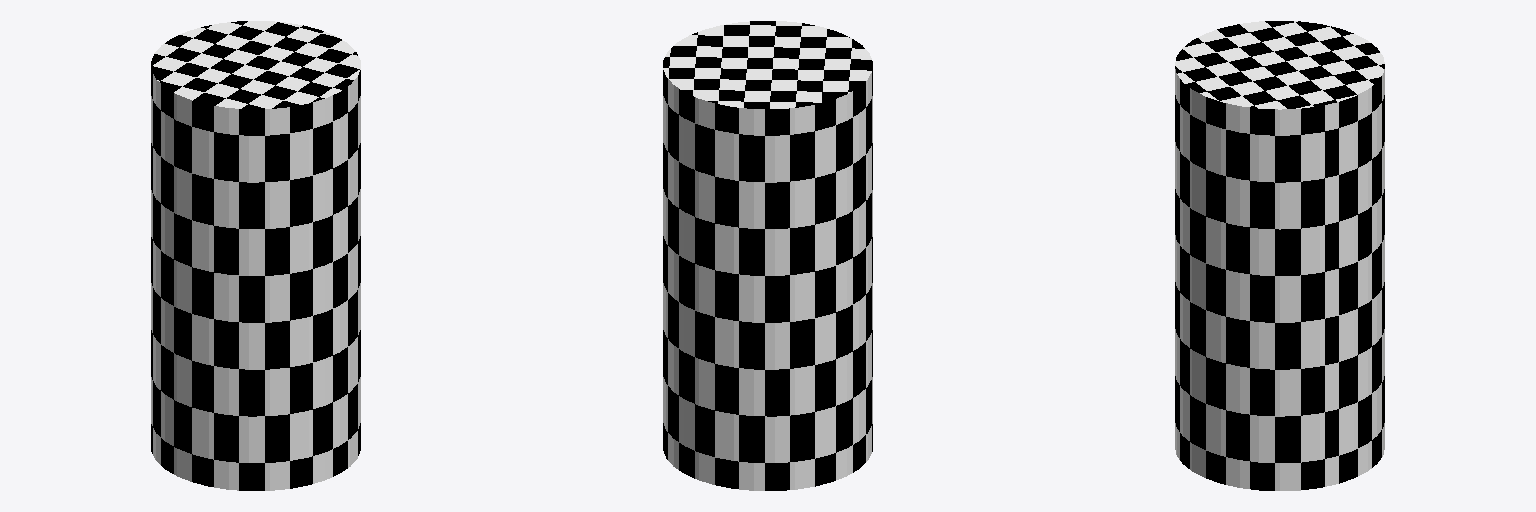
3 views of the same model, side by side, from view 1: azimuth 30°, elevation 25°; view 2: azimuth 150°, elevation 25°; view 3: azimuth 270°, elevation 25° (orthographic).
Parts seen in each view (by area): view 1: Cylinder_Cylinder.001; view 2: Cylinder_Cylinder.001; view 3: Cylinder_Cylinder.001.
Boxes of the visible parts, x1=… form: Cylinder_Cylinder.001: x1=151, y1=21, x2=360, y2=490; Cylinder_Cylinder.001: x1=663, y1=21, x2=872, y2=490; Cylinder_Cylinder.001: x1=1175, y1=21, x2=1384, y2=490.
Size of the model in its own units: 1 by 2 by 1.
1 materials, 1 textured.